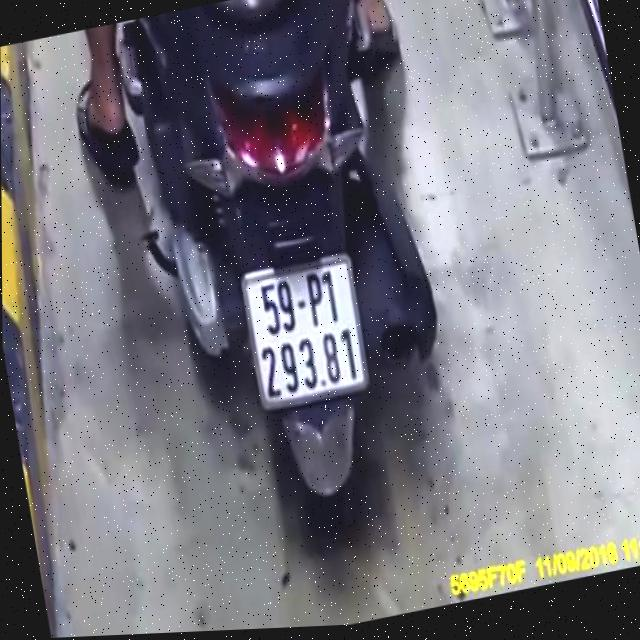motorcycle: (111, 0, 484, 583)
plate: (234, 242, 374, 420)
